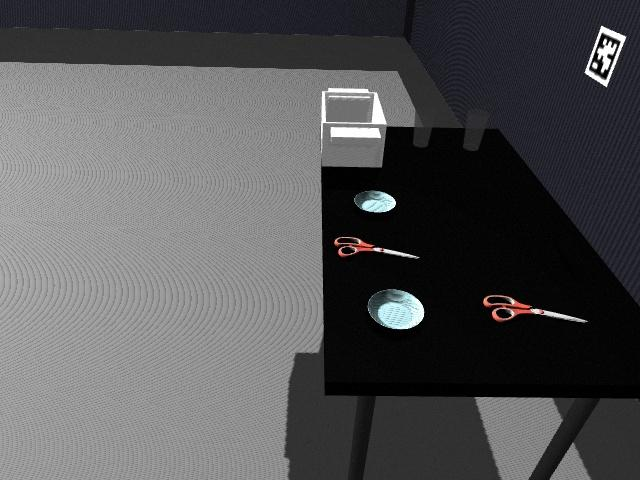cup: (462, 109, 489, 152), (412, 120, 433, 149)
plate: (366, 288, 427, 331), (353, 190, 397, 214)
scissors: (482, 293, 588, 325), (334, 236, 418, 260)
